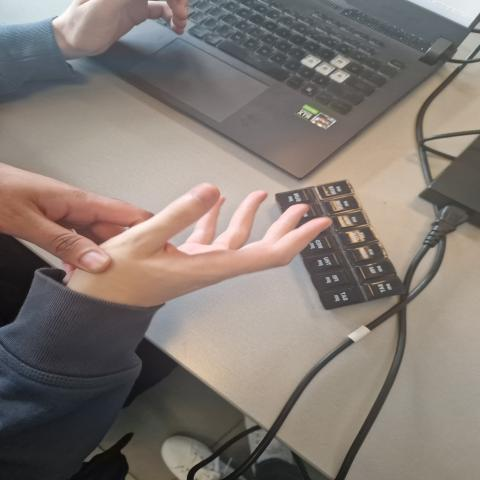Pill-box: (271, 148, 417, 334)
